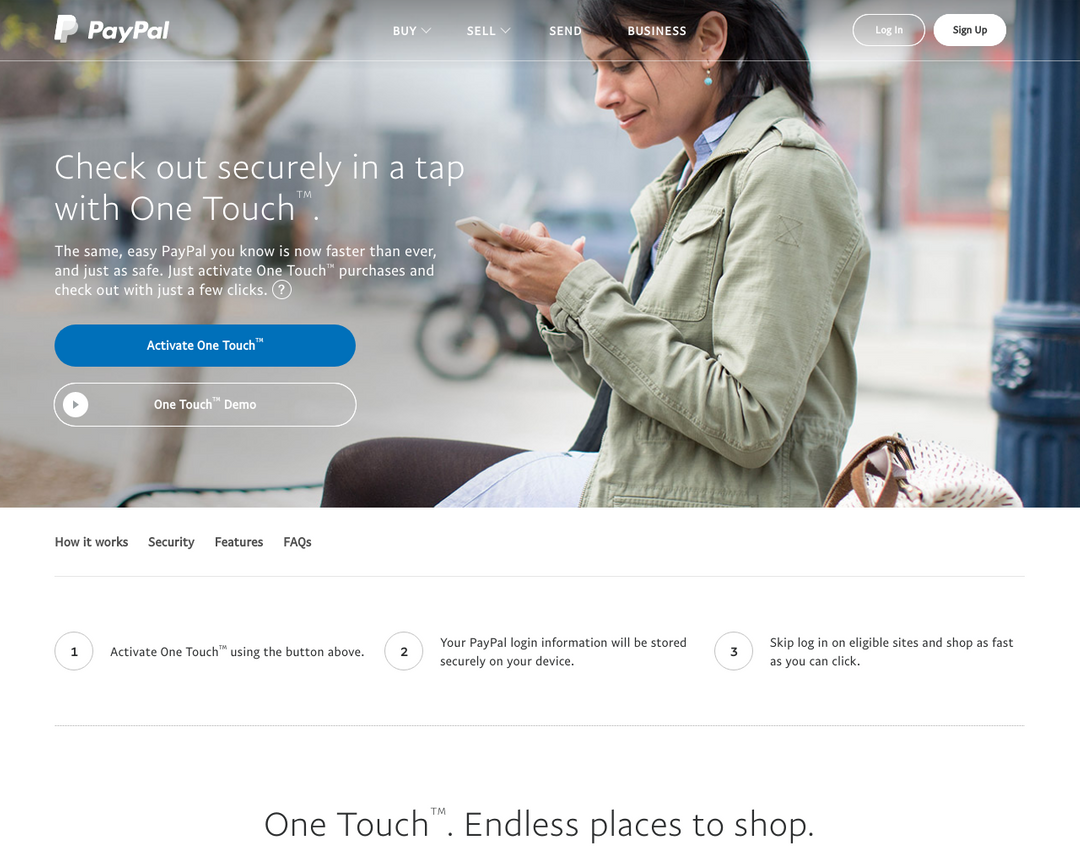Paypal: (52, 9, 174, 48)
